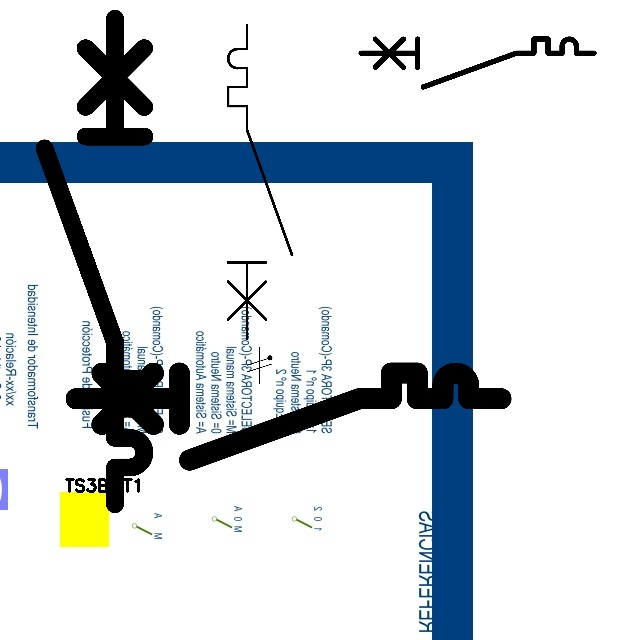interruptor_termomagnetico: (32, 6, 157, 517), (65, 362, 512, 471), (220, 17, 300, 347), (355, 33, 600, 93)
